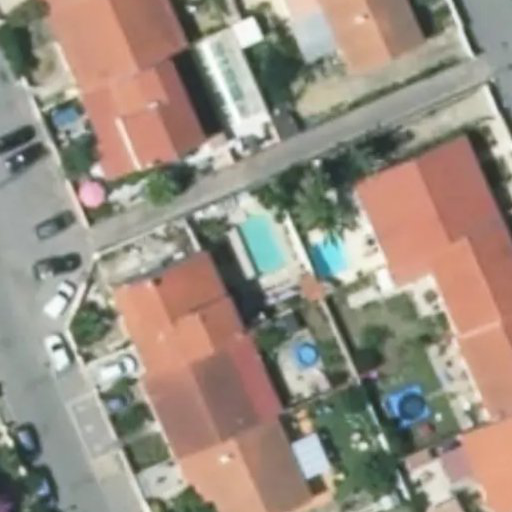pool: (228, 223, 283, 260)
